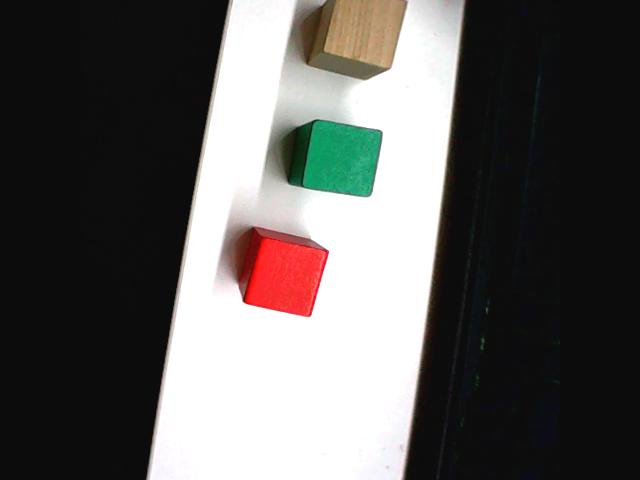green_box: (285, 117, 386, 199)
raw_box: (304, 0, 412, 82)
red_box: (235, 224, 333, 320)
